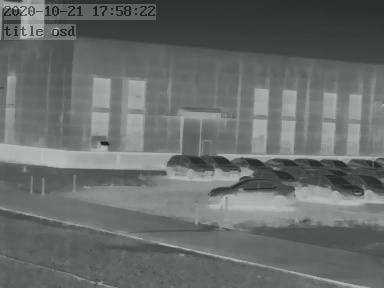vehicle: (215, 173, 294, 202), (294, 171, 363, 199), (163, 153, 212, 178), (204, 153, 243, 176), (352, 173, 382, 202), (233, 154, 268, 172), (347, 156, 381, 171), (265, 155, 298, 170), (316, 155, 348, 170), (294, 155, 324, 170)
